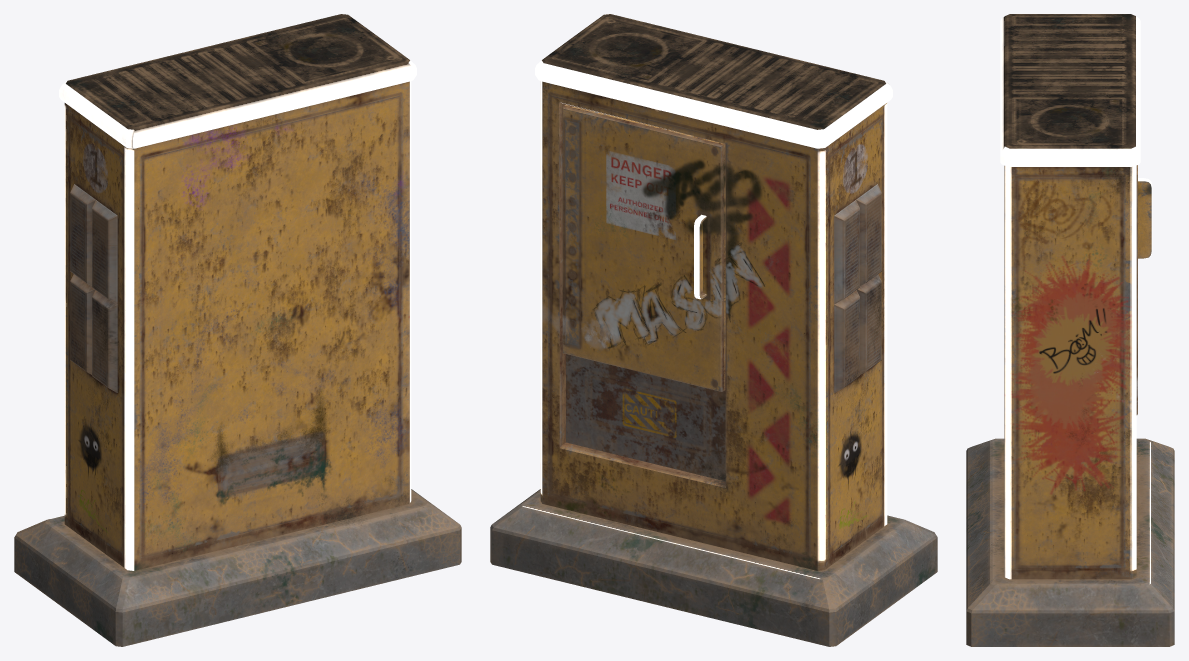
Rendered from FUT0410009.fbx.
3 renders of one model, left to right at view 1: azimuth 30°, elevation 25°; view 2: azimuth 150°, elevation 25°; view 3: azimuth 270°, elevation 25°, orthographic. The views are drawn at different scales.
Parts seen in each view (by area): view 1: smFUT0410009; view 2: smFUT0410009; view 3: smFUT0410009.
Part boxes in pixels (x1,y1,x2,y2): smFUT0410009: (14,14,461,646); smFUT0410009: (490,14,937,646); smFUT0410009: (966,14,1174,646).
Bounding box in the file's own units: 186 × 254 × 99.05.
1 material, 1 textured.
